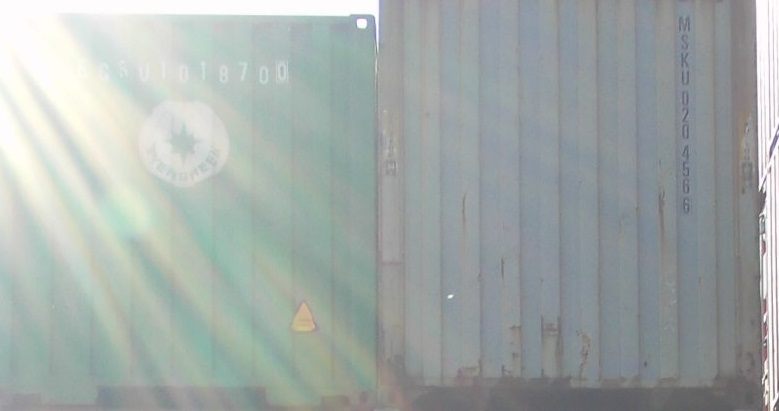container_no_door: (379, 1, 764, 411), (6, 14, 375, 400)
